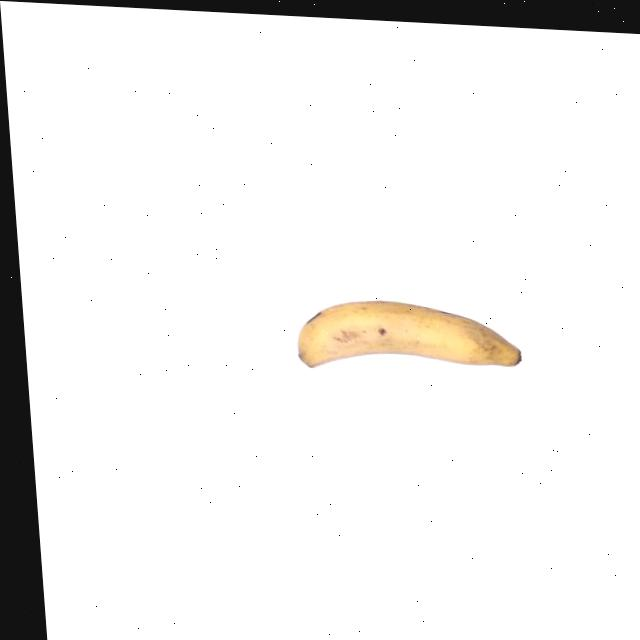banana: (288, 291, 528, 382)
